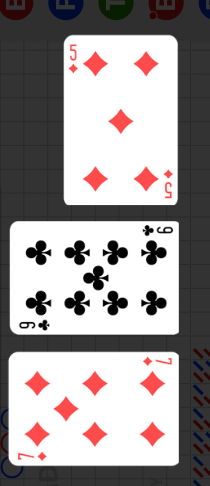7D: (16, 451, 49, 463)
9C: (140, 224, 175, 238)
9D: (67, 43, 79, 75)
